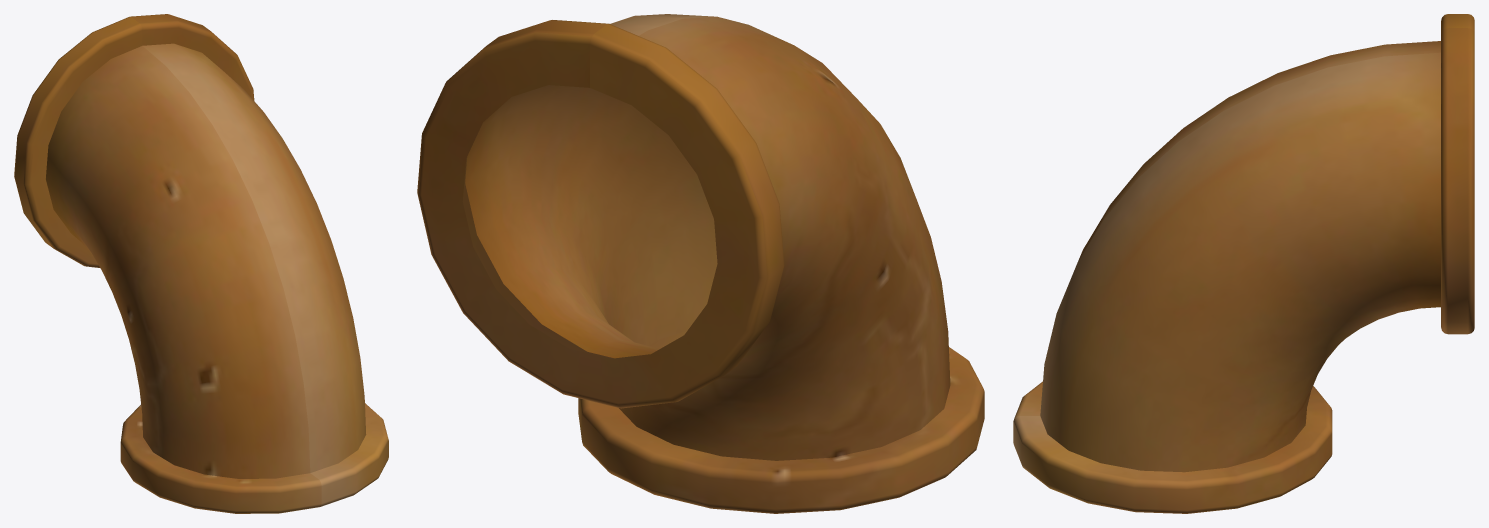
File: Upipe.fbx
3 views of the same model, side by side, from view 1: azimuth 30°, elevation 25°; view 2: azimuth 150°, elevation 25°; view 3: azimuth 270°, elevation 25° (orthographic). The views are drawn at different scales.
Visible parts, largest first — view 1: 08_01_0; view 2: 08_01_0; view 3: 08_01_0.
Boxes of the visible parts, x1,y1,x2,y2 form: 08_01_0: (14,14,388,513); 08_01_0: (417,14,984,513); 08_01_0: (1013,14,1474,513).
Bounding box in the file's own units: 48.14 × 69.72 × 69.37.
Materials: 1 (1 with a texture image).
